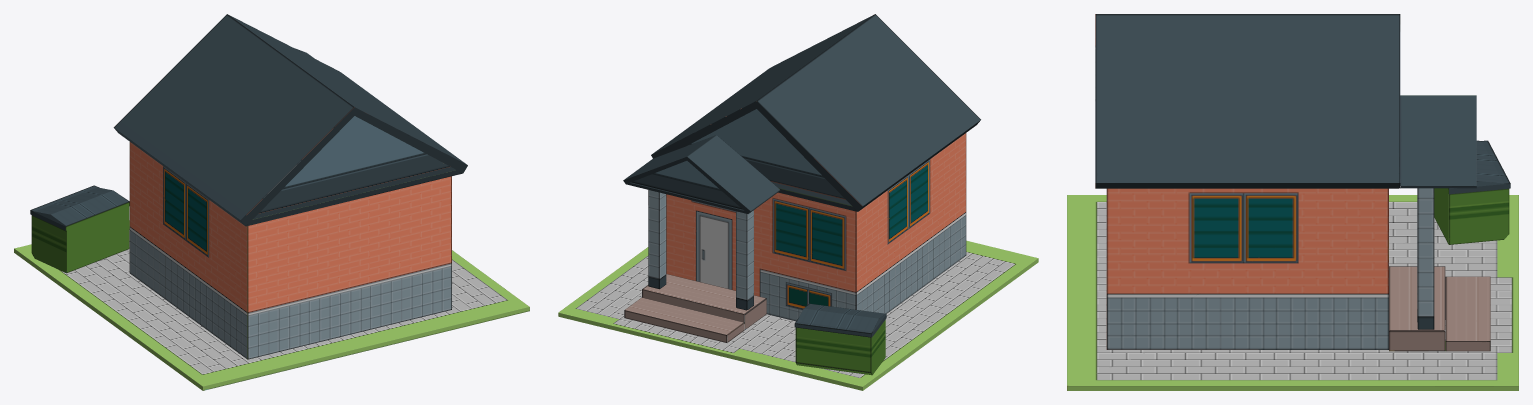
File: mambohouse.fbx
3 views of the same model, side by side, from view 1: azimuth 30°, elevation 25°; view 2: azimuth 150°, elevation 25°; view 3: azimuth 270°, elevation 25° (orthographic). The views are drawn at different scales.
Visible parts, largest first — view 1: group, plane; view 2: group, plane, mesh_selection, steps_1, steps; view 3: group, plane, mesh_selection, steps_1, steps.
Boxes of the visible parts, left/top/right/bottom form: group: left=30, top=14, right=467, bottom=359; plane: left=14, top=220, right=529, bottom=390; group: left=648, top=14, right=980, bottom=375; plane: left=558, top=240, right=1038, bottom=390; mesh_selection: left=623, top=135, right=780, bottom=213; steps_1: left=642, top=274, right=766, bottom=329; steps: left=624, top=297, right=744, bottom=342; group: left=1095, top=14, right=1510, bottom=349; plane: left=1067, top=195, right=1518, bottom=390; mesh_selection: left=1400, top=95, right=1476, bottom=188; steps_1: left=1389, top=266, right=1445, bottom=351; steps: left=1445, top=276, right=1490, bottom=351.
Bounding box in the file's own units: 1000 × 688 × 1000.
1 material, 1 textured.
